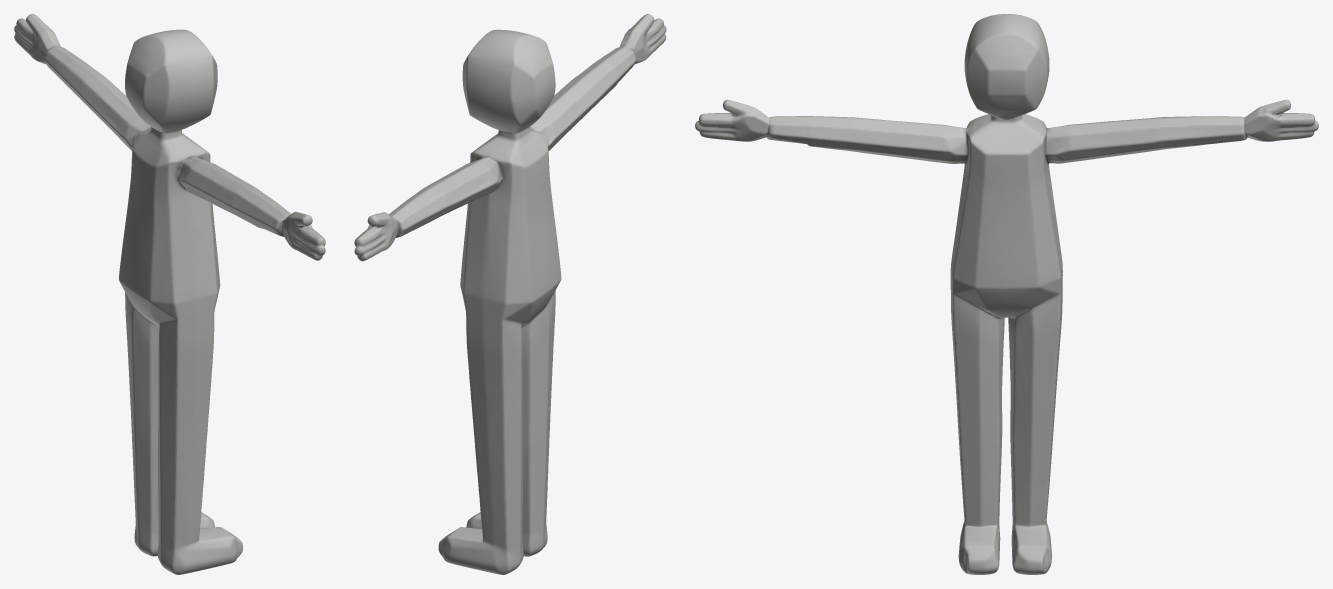
Rendered from character.glb.
3 views of the same model, side by side, from view 1: azimuth 30°, elevation 25°; view 2: azimuth 150°, elevation 25°; view 3: azimuth 270°, elevation 25° (orthographic).
Parts seen in each view (by area): view 1: tripo_node_d82f98bb-3c62-4a4c-8ef9-bf56c2cd35bd; view 2: tripo_node_d82f98bb-3c62-4a4c-8ef9-bf56c2cd35bd; view 3: tripo_node_d82f98bb-3c62-4a4c-8ef9-bf56c2cd35bd.
Part boxes in pixels (<box>): tripo_node_d82f98bb-3c62-4a4c-8ef9-bf56c2cd35bd: <box>14,14,325,574</box>; tripo_node_d82f98bb-3c62-4a4c-8ef9-bf56c2cd35bd: <box>354,14,666,574</box>; tripo_node_d82f98bb-3c62-4a4c-8ef9-bf56c2cd35bd: <box>695,14,1318,574</box>.
Bounding box in the file's own units: 0.1735 × 0.9452 × 1.
1 material, 1 textured.
